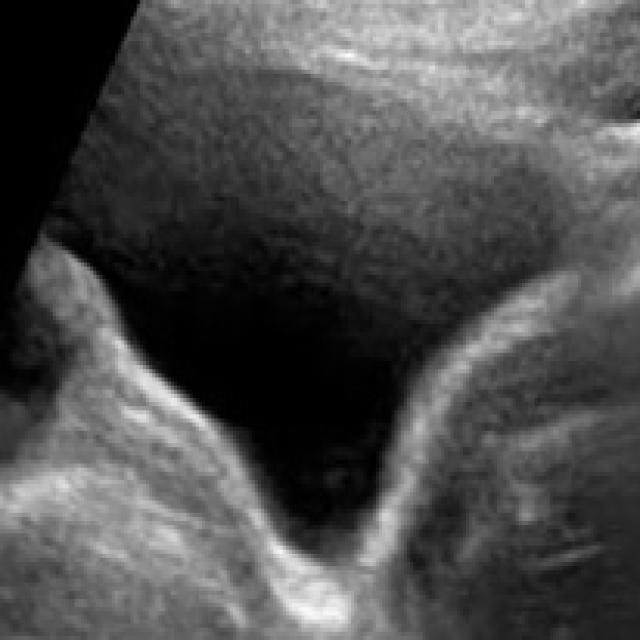bladder: (34, 9, 604, 590)
